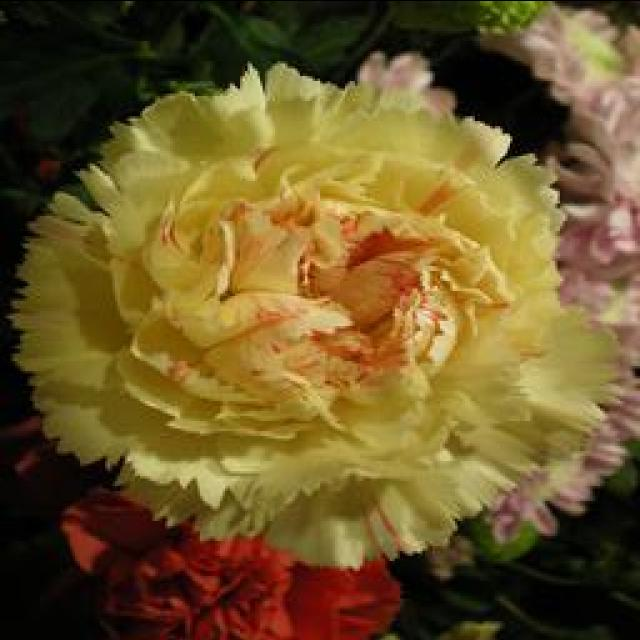carnation: (4, 27, 615, 579)
